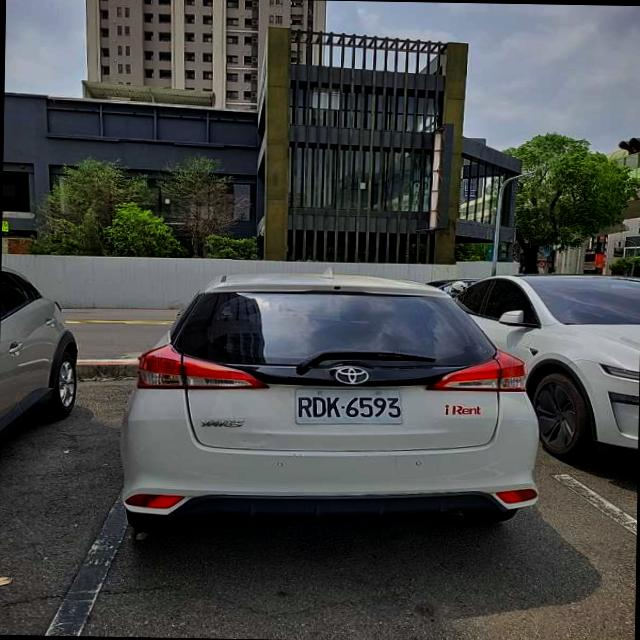license plate: (295, 389, 404, 425)
